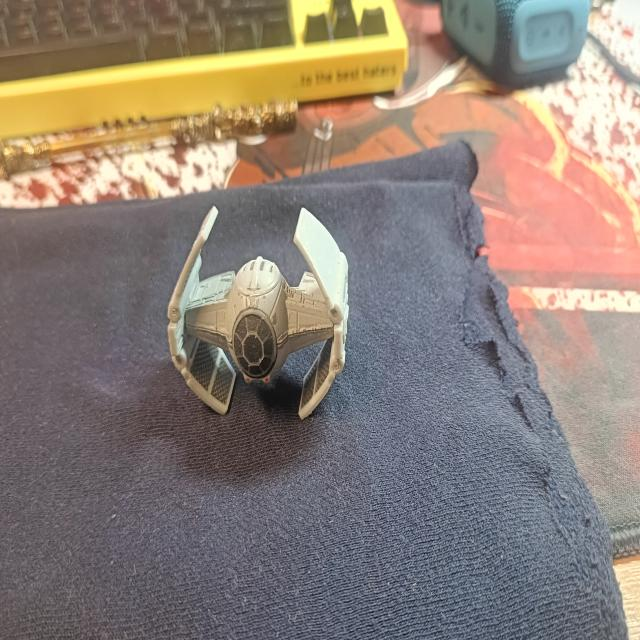tie fighter: (166, 202, 350, 421)
